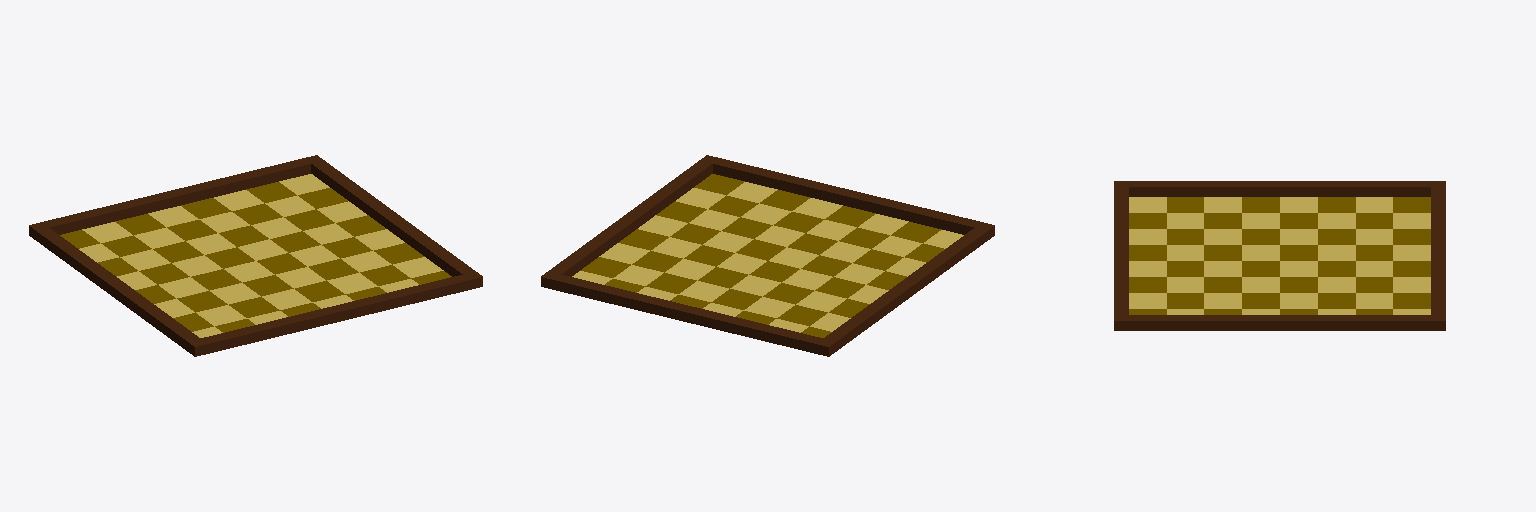
The picture shows the model from 3 angles: view 1: azimuth 30°, elevation 25°; view 2: azimuth 150°, elevation 25°; view 3: azimuth 270°, elevation 25°; orthographic projection.
Visible parts, largest first — view 1: Plane.001; view 2: Plane.001; view 3: Plane.001.
Part boxes in pixels (x1,y1,x2,y2): Plane.001: (29, 155, 482, 356); Plane.001: (541, 155, 994, 356); Plane.001: (1114, 181, 1445, 330).
Bounding box in the file's own units: 49.69 × 1.63 × 49.69.
Materials: 1 (1 with a texture image).